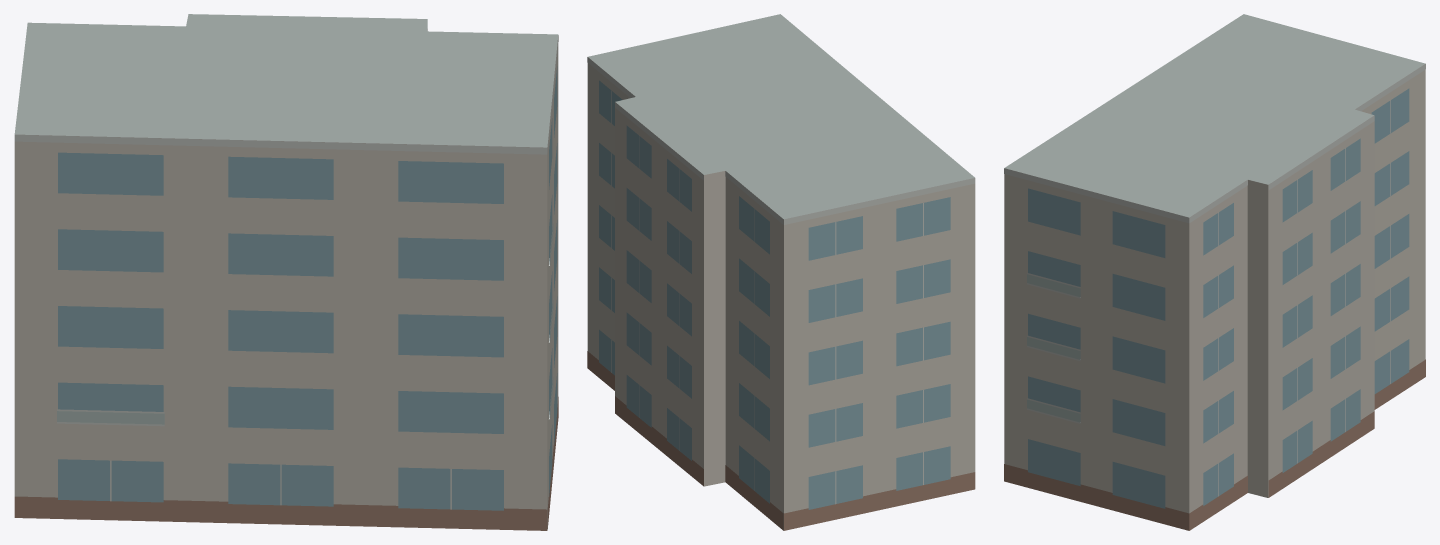
File: survey-upis-32851101.glb
3 renders of one model, left to right at view 1: azimuth 30°, elevation 25°; view 2: azimuth 150°, elevation 25°; view 3: azimuth 270°, elevation 25°, orthographic. The views are drawn at different scales.
Visible parts, largest first — view 1: survey-upis-32851101.tmp; view 2: survey-upis-32851101.tmp; view 3: survey-upis-32851101.tmp.
Part boxes in pixels (x1=…): survey-upis-32851101.tmp: x1=14, y1=14, x2=558, y2=530; survey-upis-32851101.tmp: x1=587, y1=14, x2=975, y2=530; survey-upis-32851101.tmp: x1=1004, y1=14, x2=1425, y2=530.
Bounding box in the file's own units: 18.4 × 13.2 × 16.11.
